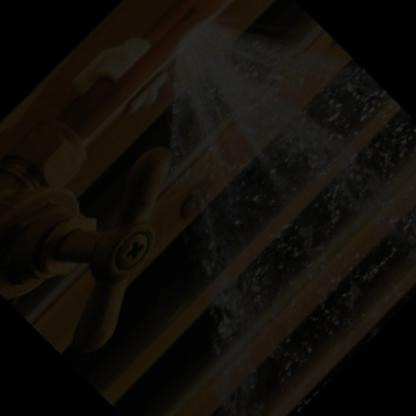burst: (158, 30, 226, 102)
